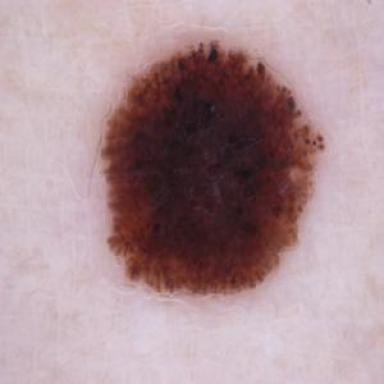Melanoma: (102, 42, 324, 294)
